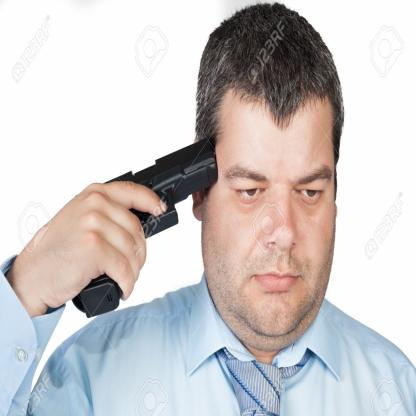pistol: (69, 136, 218, 317)
